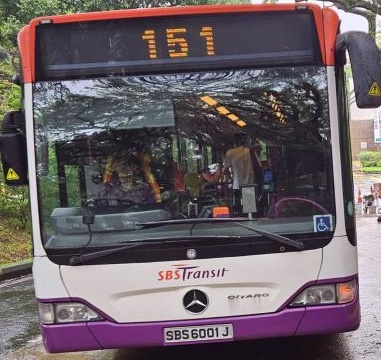bus: (128, 17, 223, 67)
